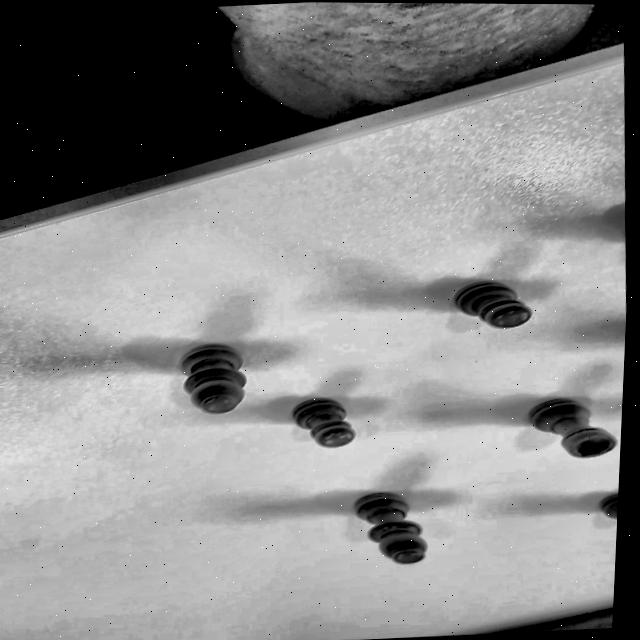black-bishop: (340, 474, 447, 576), (160, 331, 270, 425)
black-pawn: (441, 264, 546, 342), (278, 388, 372, 456)
black-rook: (507, 383, 623, 472)
